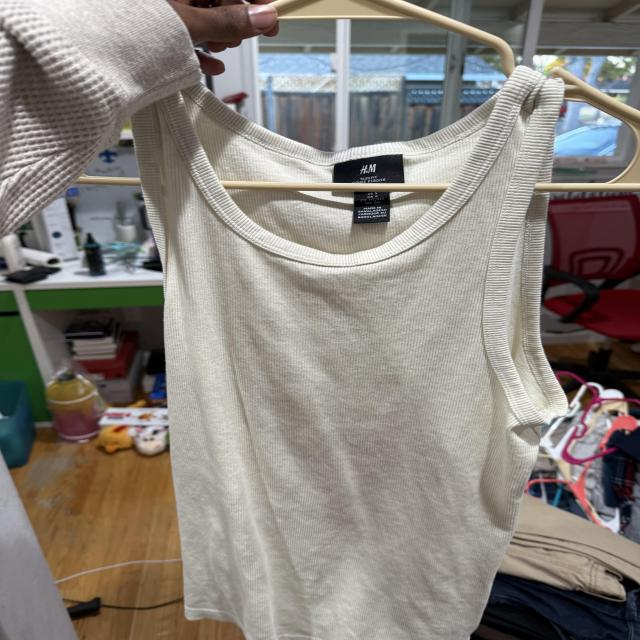back_tag: (334, 158, 412, 229)
